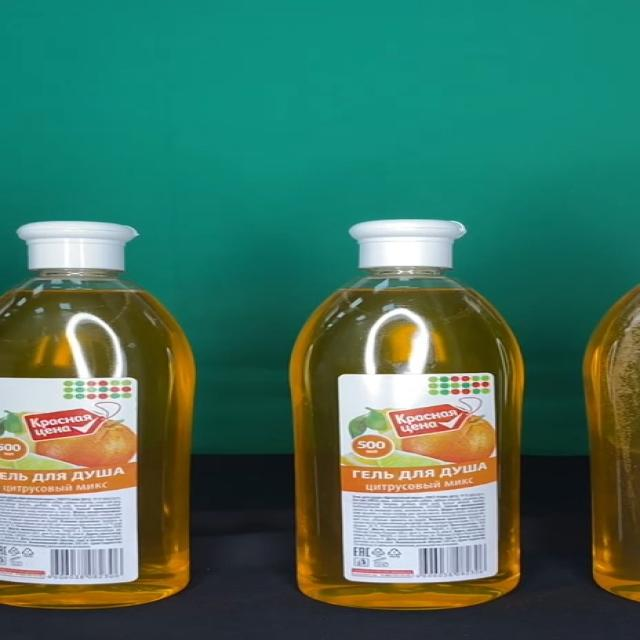Bottle: (289, 218, 524, 610), (0, 222, 196, 609)
Cap: (15, 222, 142, 270), (346, 219, 466, 268)
